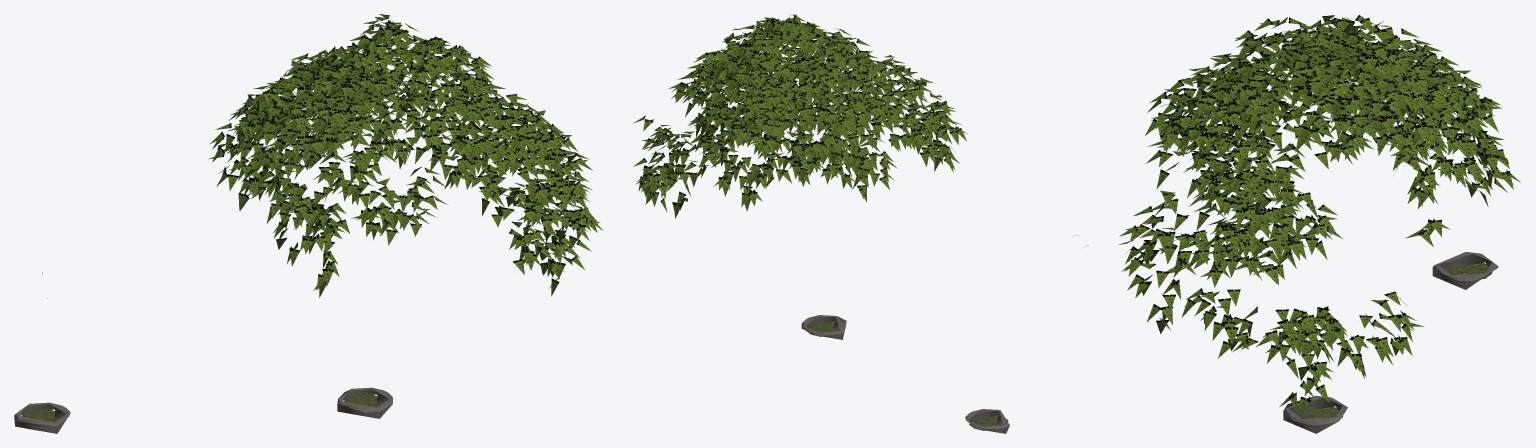
File: KB3D_NEC_BldgLG_A_Tree.glb
3 renders of one model, left to right at view 1: azimuth 30°, elevation 25°; view 2: azimuth 150°, elevation 25°; view 3: azimuth 270°, elevation 25°, orthographic. The views are drawn at different scales.
Parts seen in each view (by area): view 1: KB3D_NEC_BldgLG_A_Tree; view 2: KB3D_NEC_BldgLG_A_Tree; view 3: KB3D_NEC_BldgLG_A_Tree.
Boxes of the visible parts, left/top/right/bottom form: KB3D_NEC_BldgLG_A_Tree: left=14, top=14, right=602, bottom=433; KB3D_NEC_BldgLG_A_Tree: left=633, top=14, right=1088, bottom=433; KB3D_NEC_BldgLG_A_Tree: left=1118, top=15, right=1520, bottom=433.
Size of the model in its own units: 17.03 by 11.37 by 9.87.
4 materials, 4 textured.
